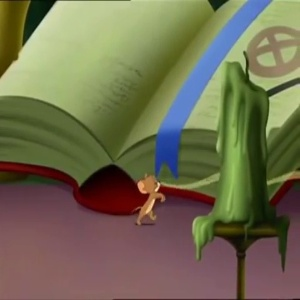Jerry: (136, 173, 164, 194)
